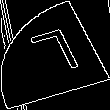L_S: (24, 26, 86, 84)
